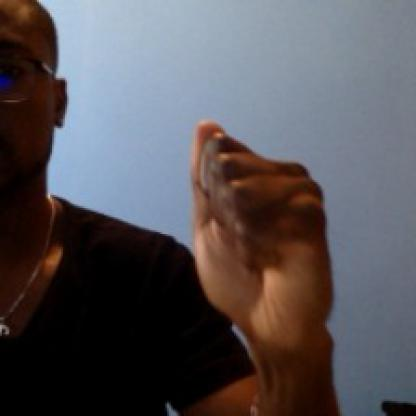BACKWARD: (183, 119, 356, 361)
